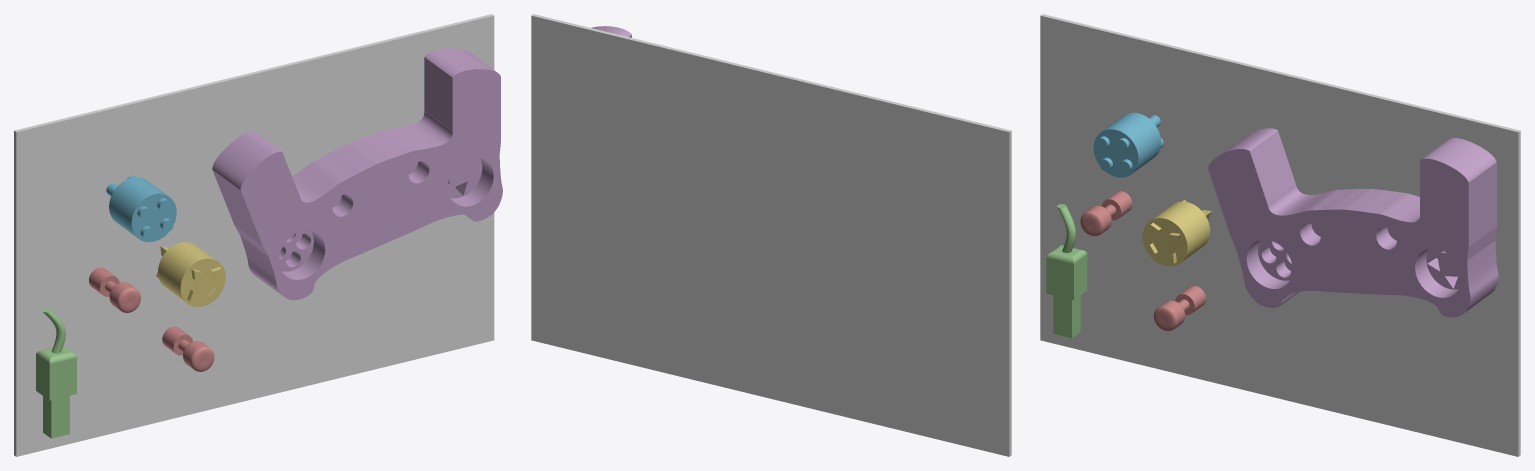
File: pickup_layout.glb
The picture shows the model from 3 angles, left to right: view 1: azimuth 30°, elevation 25°; view 2: azimuth 150°, elevation 25°; view 3: azimuth 330°, elevation 25°; orthographic projection.
Visible parts, largest first — view 1: world, 3.obj, 4.obj, 2.obj, 1.obj, 5.obj, 0.obj; view 2: world; view 3: world, 3.obj, 4.obj, 2.obj, 1.obj, 0.obj, 5.obj.
Boxes of the visible parts, x1,y1,x2,y2 form: world: [14, 14, 494, 456]; 3.obj: [212, 48, 502, 300]; 4.obj: [36, 308, 76, 438]; 2.obj: [106, 175, 176, 242]; 1.obj: [156, 242, 225, 306]; 5.obj: [162, 326, 214, 371]; 0.obj: [89, 267, 140, 312]; world: [531, 14, 1011, 456]; world: [1040, 14, 1520, 456]; 3.obj: [1208, 128, 1498, 317]; 4.obj: [1046, 204, 1087, 338]; 2.obj: [1093, 112, 1163, 177]; 1.obj: [1142, 200, 1211, 266]; 0.obj: [1080, 191, 1132, 236]; 5.obj: [1153, 286, 1205, 331].
Bounding box in the file's own units: 24.4 × 15.84 × 3.2.
